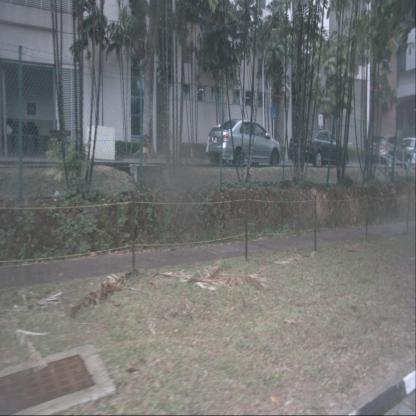movable_object-trafficcone: (190, 147, 194, 162)
vehicle-car: (206, 118, 282, 168), (287, 128, 349, 167), (366, 131, 412, 170), (397, 136, 416, 169)
